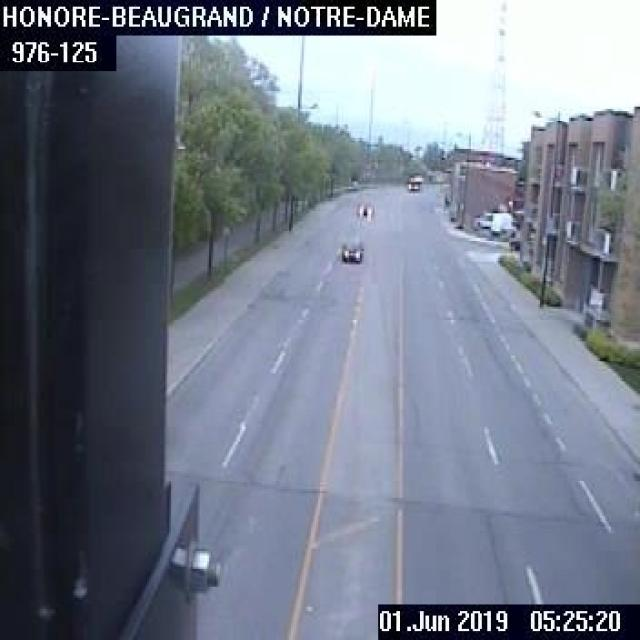vehicle: (337, 239, 363, 263), (356, 200, 373, 218), (472, 210, 491, 226), (405, 176, 422, 192)
